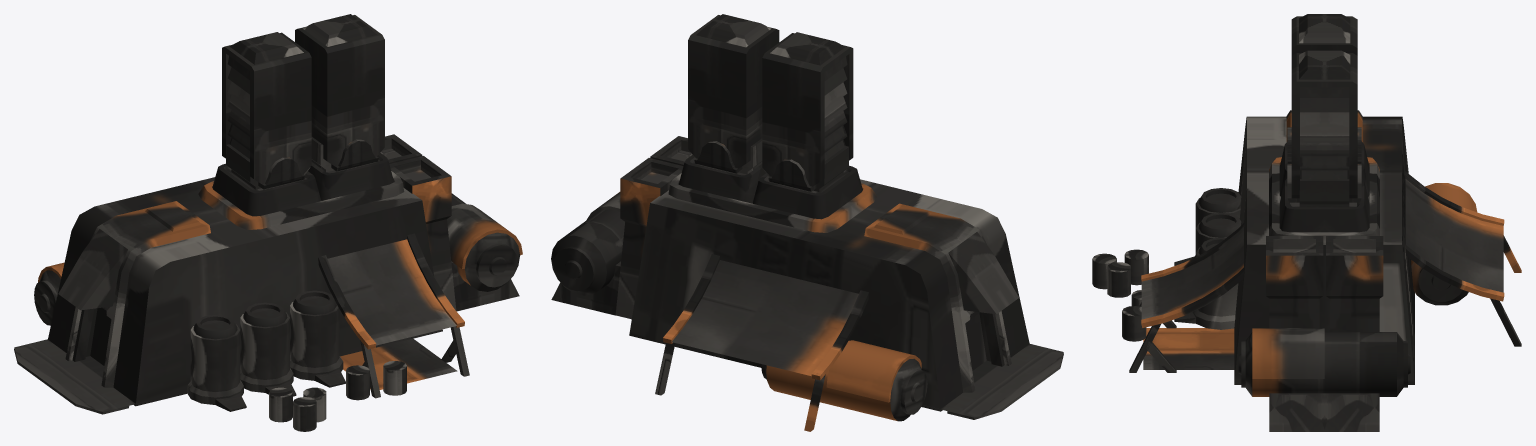
The model's file is AlloySmelter.fbx.
3 renders of one model, left to right at view 1: azimuth 30°, elevation 25°; view 2: azimuth 150°, elevation 25°; view 3: azimuth 270°, elevation 25°, orthographic. The views are drawn at different scales.
Parts seen in each view (by area): view 1: polySurface7; view 2: polySurface7; view 3: polySurface7.
Boxes of the visible parts, <box> form: polySurface7: <box>14,14,522,431</box>; polySurface7: <box>551,14,1063,431</box>; polySurface7: <box>1092,14,1521,431</box>.
Size of the model in its own units: 235 by 147 by 191.
